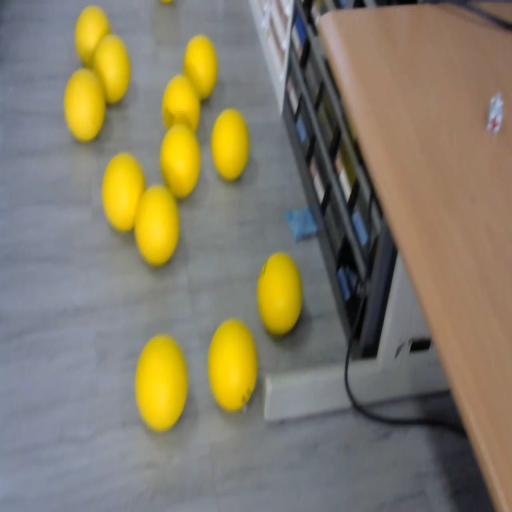FUEL: (134, 333, 188, 431), (206, 317, 259, 412), (256, 250, 303, 336), (134, 184, 180, 267), (101, 150, 146, 232), (158, 123, 202, 198), (63, 67, 106, 143), (210, 106, 250, 180), (93, 35, 132, 105), (160, 73, 202, 134)
